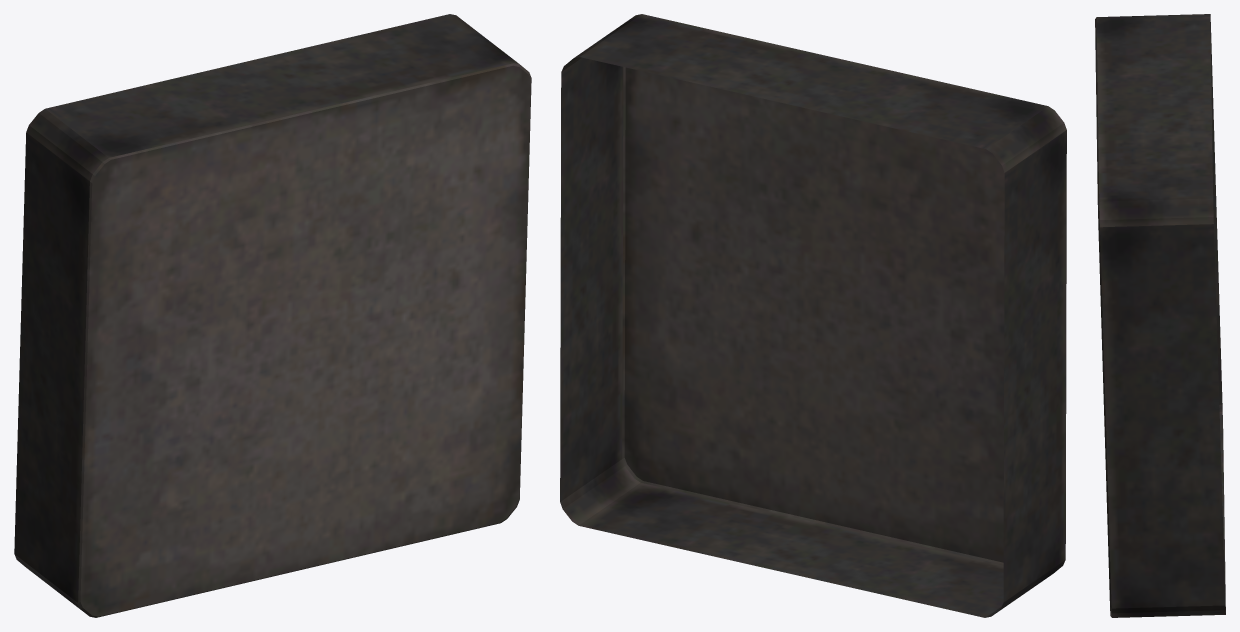
Rendered from hd_dec_UNI_003_PavingDirected_single_01_tinted.glb.
3 renders of one model, left to right at view 1: azimuth 30°, elevation 25°; view 2: azimuth 150°, elevation 25°; view 3: azimuth 270°, elevation 25°, orthographic. The views are drawn at different scales.
Visible parts, largest first — view 1: set_0_group_0; view 2: set_0_group_0; view 3: set_0_group_0.
Part boxes in pixels (x1=…): set_0_group_0: x1=14, y1=14, x2=531, y2=617; set_0_group_0: x1=560, y1=14, x2=1066, y2=617; set_0_group_0: x1=1095, y1=14, x2=1225, y2=617.
Bounding box in the file's own units: 0.4915 × 0.4938 × 0.1374.
1 material, 1 textured.
